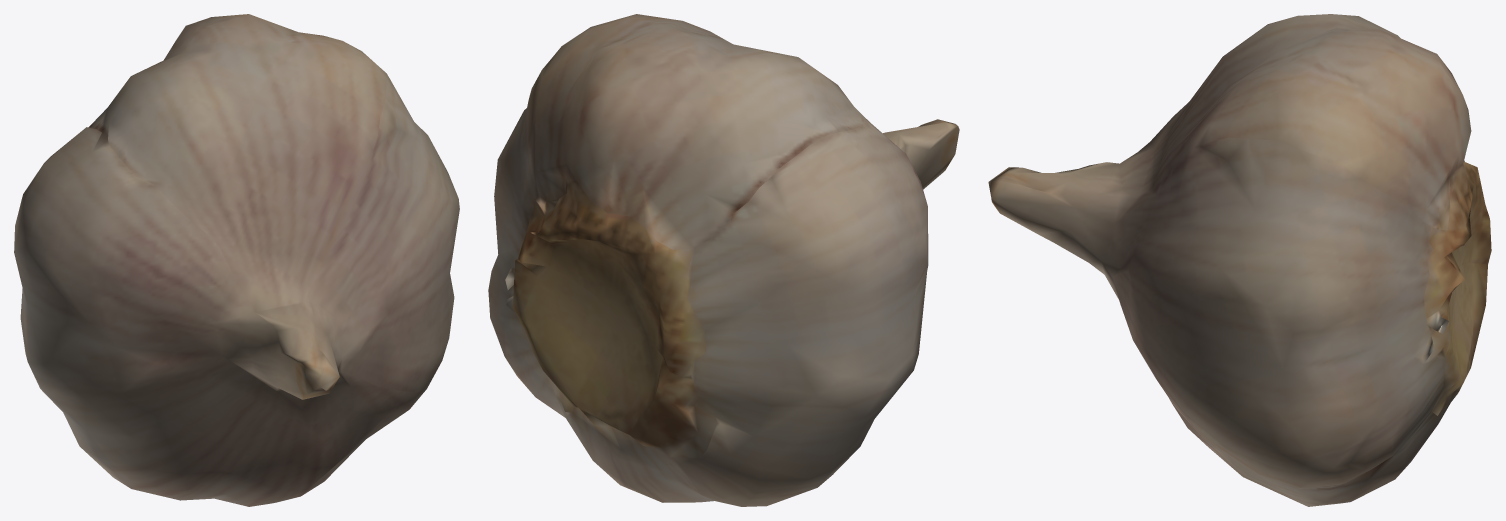
The model's file is ref_cs_garlic.glb.
The picture shows the model from 3 angles, left to right: view 1: azimuth 30°, elevation 25°; view 2: azimuth 150°, elevation 25°; view 3: azimuth 270°, elevation 25°; orthographic projection. The views are drawn at different scales.
Visible parts, largest first — view 1: ref_cs_garlic_part0; view 2: ref_cs_garlic_part0; view 3: ref_cs_garlic_part0.
Part boxes in pixels (<box>): ref_cs_garlic_part0: <box>14,14,459,506</box>; ref_cs_garlic_part0: <box>488,14,959,506</box>; ref_cs_garlic_part0: <box>988,14,1491,506</box>.
Size of the model in its own units: 0.9332 by 0.9987 by 1.
Materials: 1 (1 with a texture image).
